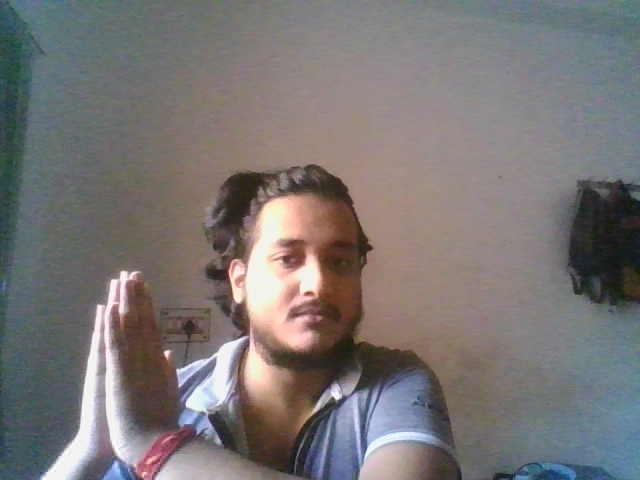ThankYou: (81, 267, 181, 457)
